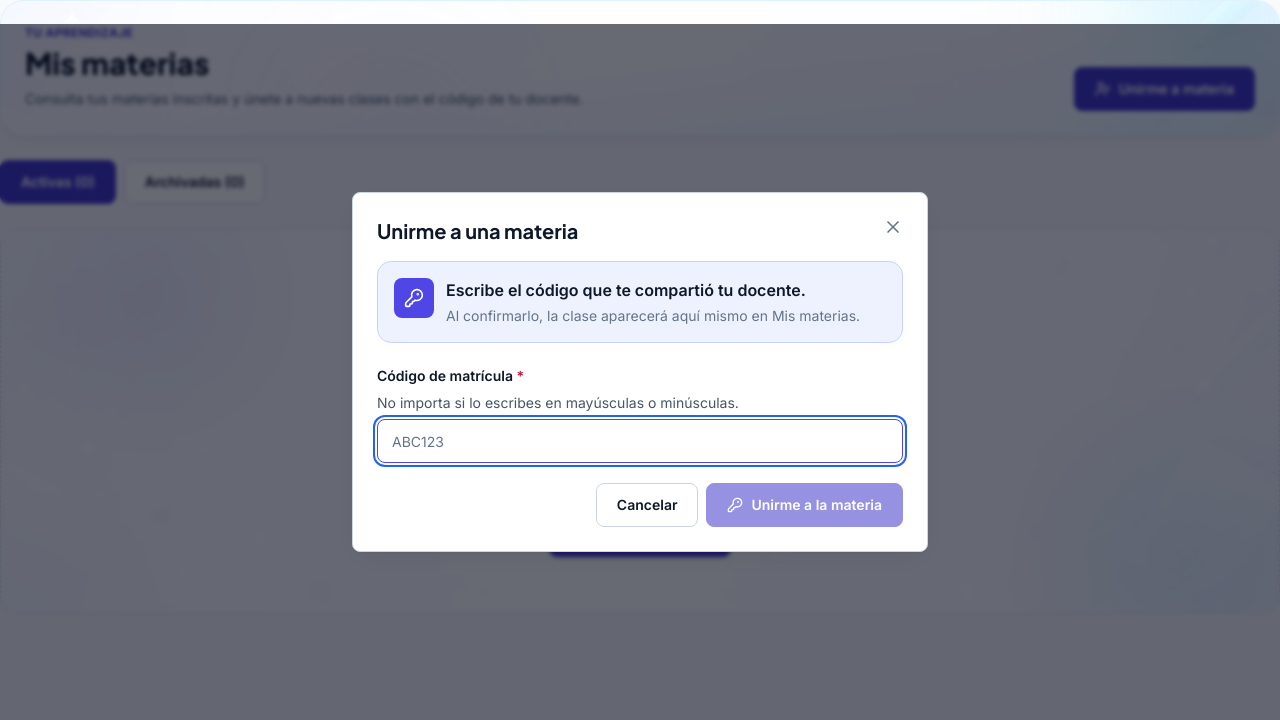
Test: MateriasListPage student enrollment › allows joining from Mis materias without leaving the page
Expected: the heading "Mis materias" is shown, [25, 45, 209, 81]
Expected: the heading "Unirme a una materia" is shown, [377, 218, 578, 243]
Step 1. Type "abc123" into the field labelled "Código de matrícula" → (640, 441), box [377, 419, 903, 463]
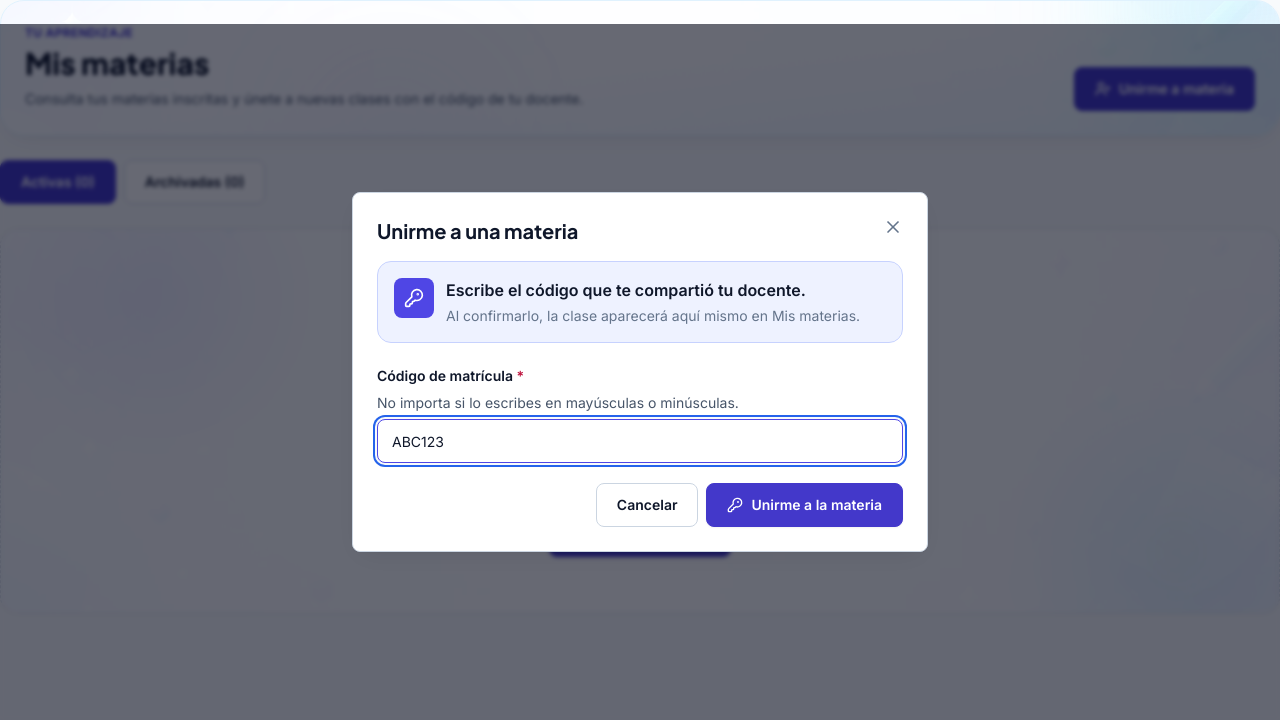
Step 2. Click the button "Unirme a la materia" → (805, 505), box [706, 483, 903, 527]
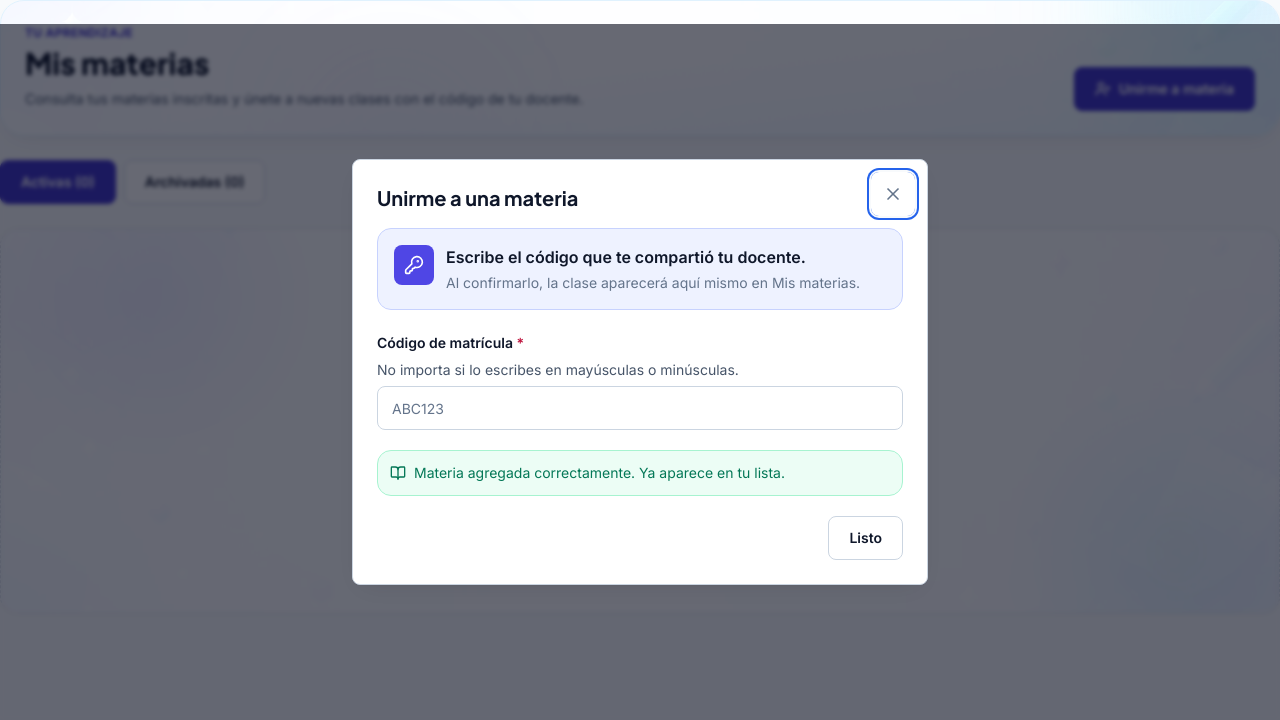
Expected: the heading "Mis materias" is shown, [25, 45, 209, 81]
Now the text "Materia agregada correctamente. Ya aparece en tu lista." is shown, box [414, 463, 785, 483]
